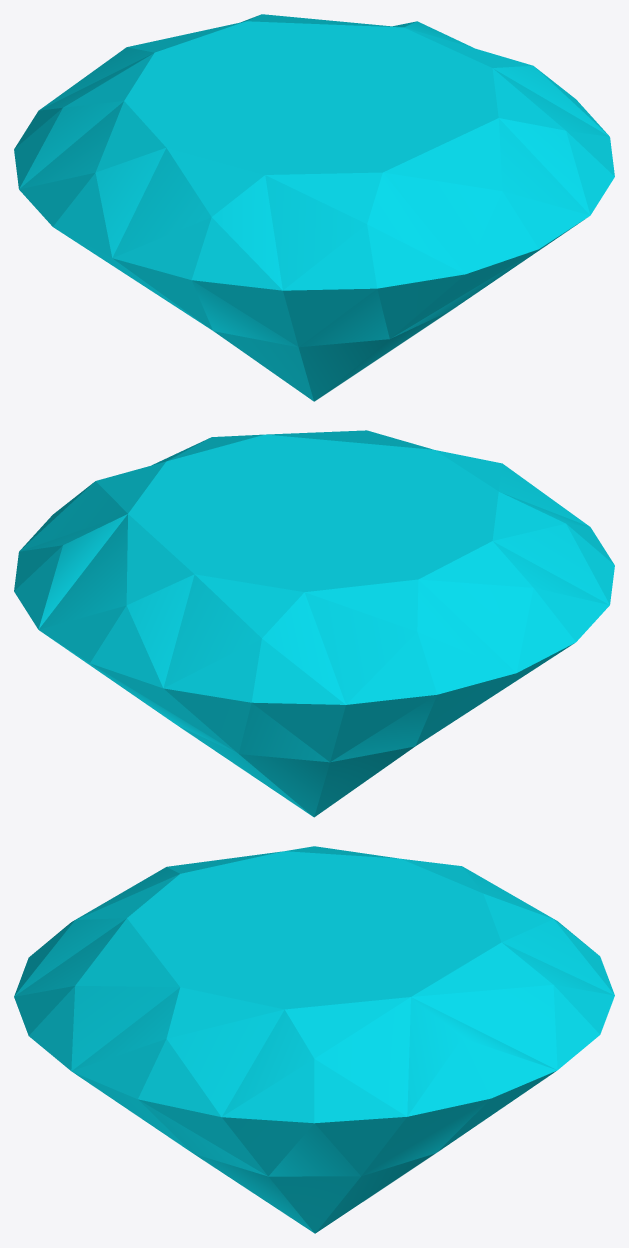
The model's file is dflat.glb.
3 renders of one model, top to bottom at view 1: azimuth 30°, elevation 25°; view 2: azimuth 150°, elevation 25°; view 3: azimuth 270°, elevation 25°, orthographic.
Visible parts, largest first — view 1: Diamond; view 2: Diamond; view 3: Diamond.
Boxes of the visible parts, x1,y1,x2,y2 form: Diamond: (14,14,614,401); Diamond: (14,430,614,817); Diamond: (14,846,614,1233).
Size of the model in its own units: 1.98 by 1.11 by 1.98.
